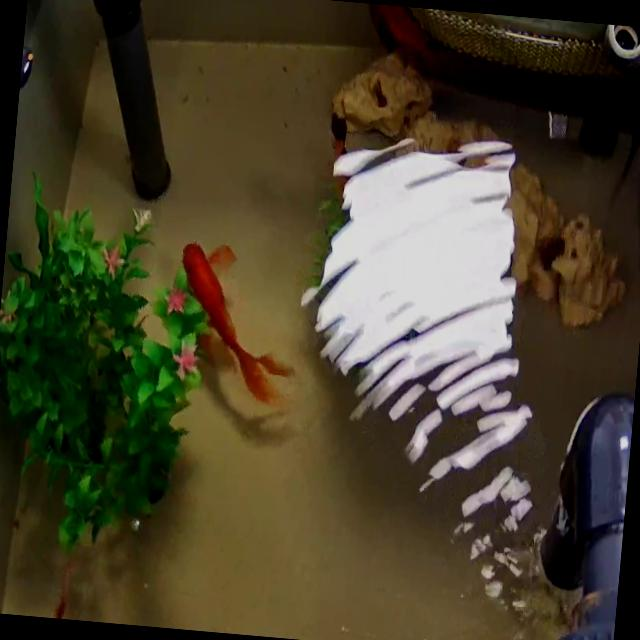fish: (170, 235, 304, 404), (352, 2, 467, 87), (34, 560, 116, 622)
